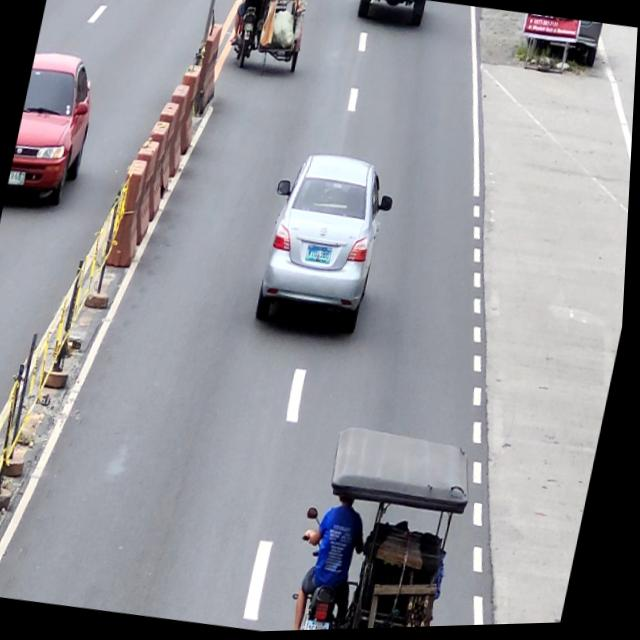Car: (250, 146, 403, 347)
License-Plate: (307, 244, 336, 267), (313, 623, 337, 632)
Tricycle: (290, 425, 479, 633), (220, 0, 315, 80)
